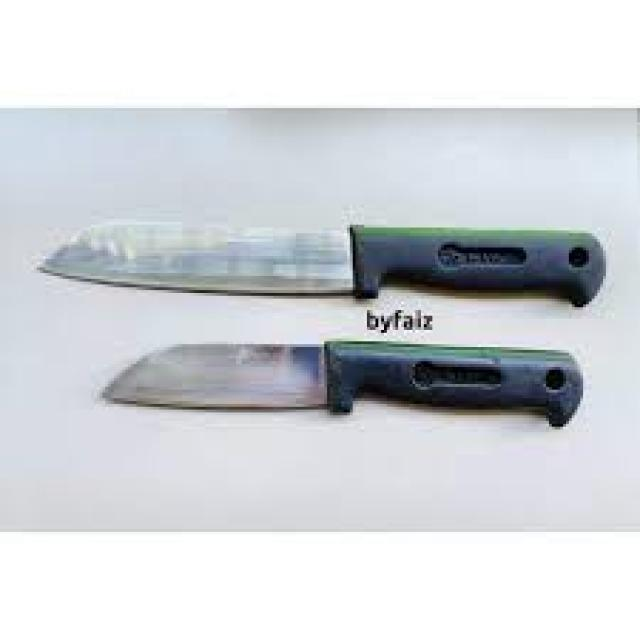Knife: (40, 219, 606, 307), (102, 336, 589, 430)
